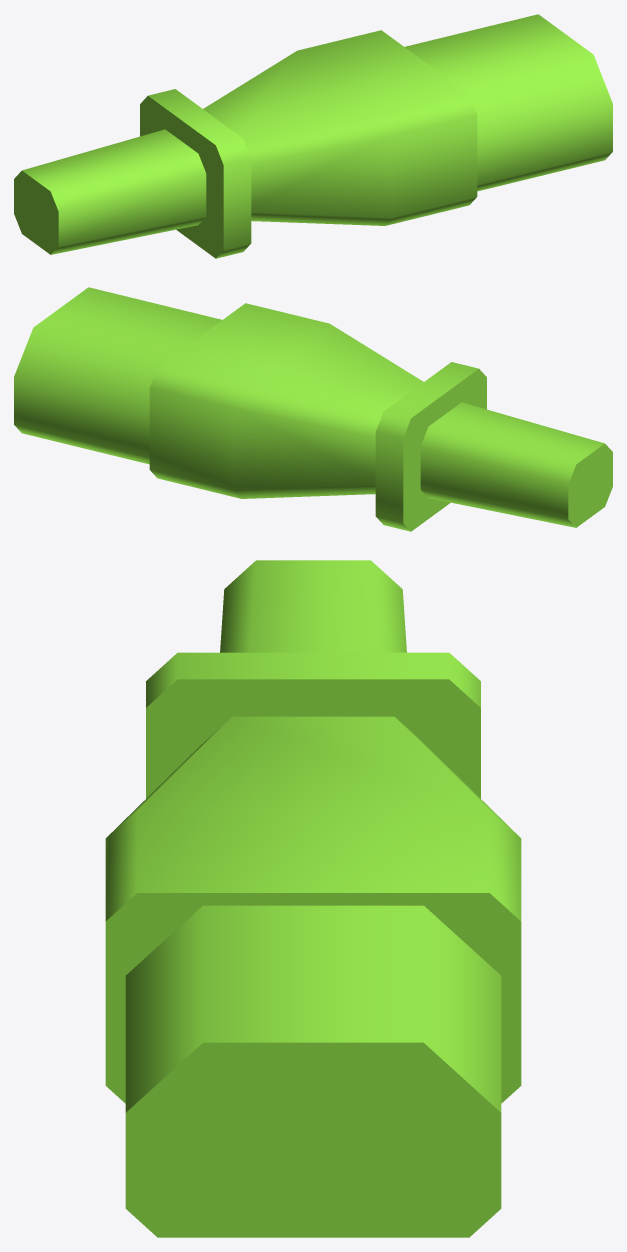
The model's file is SM_Power_1.fbx.
3 renders of one model, top to bottom at view 1: azimuth 30°, elevation 25°; view 2: azimuth 150°, elevation 25°; view 3: azimuth 270°, elevation 25°, orthographic. The views are drawn at different scales.
Visible parts, largest first — view 1: SM_Power_1; view 2: SM_Power_1; view 3: SM_Power_1.
Boxes of the visible parts, left/top/right/bottom form: SM_Power_1: left=14, top=14, right=612, bottom=258; SM_Power_1: left=14, top=287, right=612, bottom=531; SM_Power_1: left=105, top=560, right=521, bottom=1237.
Size of the model in its own units: 7.16 by 1.47 by 2.43.
